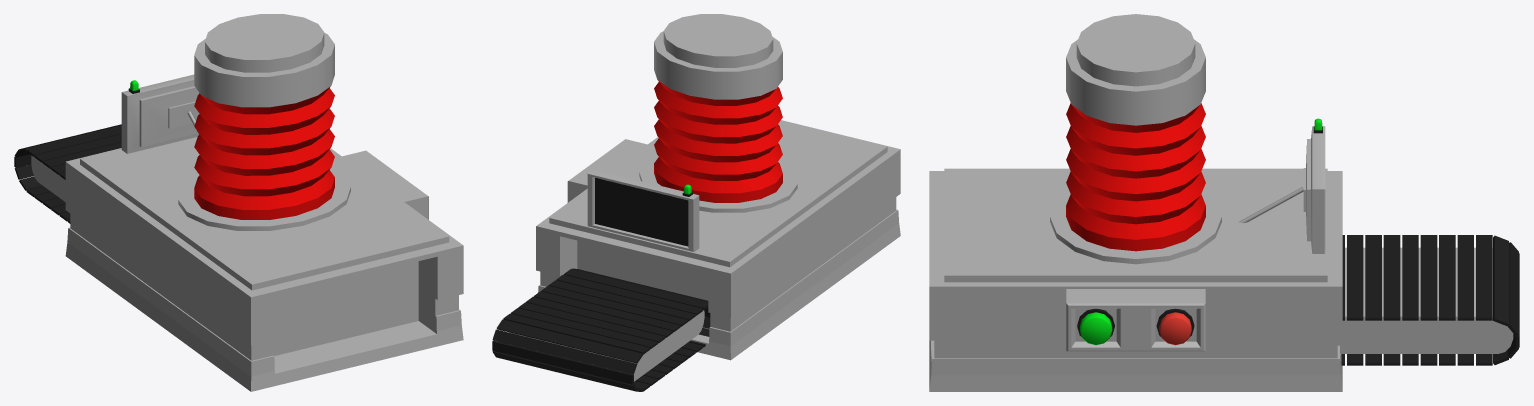
Rendered from Garbage_Recycling (1).fbx.
3 renders of one model, left to right at view 1: azimuth 30°, elevation 25°; view 2: azimuth 150°, elevation 25°; view 3: azimuth 270°, elevation 25°, orthographic. The views are drawn at different scales.
Parts seen in each view (by area): view 1: Cube.007, Cylinder.021, Cube.027, robot_f_anim.004, Cube.030, Cube.028; view 2: Cube.007, Cylinder.021, robot_f_anim.004, Cube.027, Cube.028, Cube.030; view 3: Cube.007, Cylinder.021, robot_f_anim.004, Cube.028, Cube.030, Cube.027, Cylinder.023.
Boxes of the visible parts, left/top/right/bottom form: Cube.007: left=65, top=137, right=463, bottom=391; Cylinder.021: left=178, top=14, right=350, bottom=230; Cube.027: left=121, top=74, right=199, bottom=153; robot_f_anim.004: left=14, top=124, right=121, bottom=223; Cube.030: left=342, top=150, right=428, bottom=219; Cube.028: left=31, top=155, right=65, bottom=201; Cube.007: left=536, top=120, right=900, bottom=360; Cylinder.021: left=639, top=14, right=797, bottom=212; robot_f_anim.004: left=492, top=268, right=710, bottom=391; Cube.027: left=587, top=169, right=699, bottom=251; Cube.028: left=509, top=310, right=704, bottom=381; Cube.030: left=567, top=139, right=647, bottom=202; Cube.007: left=929, top=168, right=1342, bottom=391; Cylinder.021: left=1050, top=14, right=1221, bottom=264; robot_f_anim.004: left=1341, top=235, right=1519, bottom=365; Cube.028: left=1337, top=247, right=1513, bottom=353; Cube.030: left=1066, top=289, right=1205, bottom=351; Cube.027: left=1303, top=126, right=1325, bottom=253; Cylinder.023: left=1077, top=308, right=1194, bottom=345.
Size of the model in its own units: 8.87 by 8.98 by 16.52.
